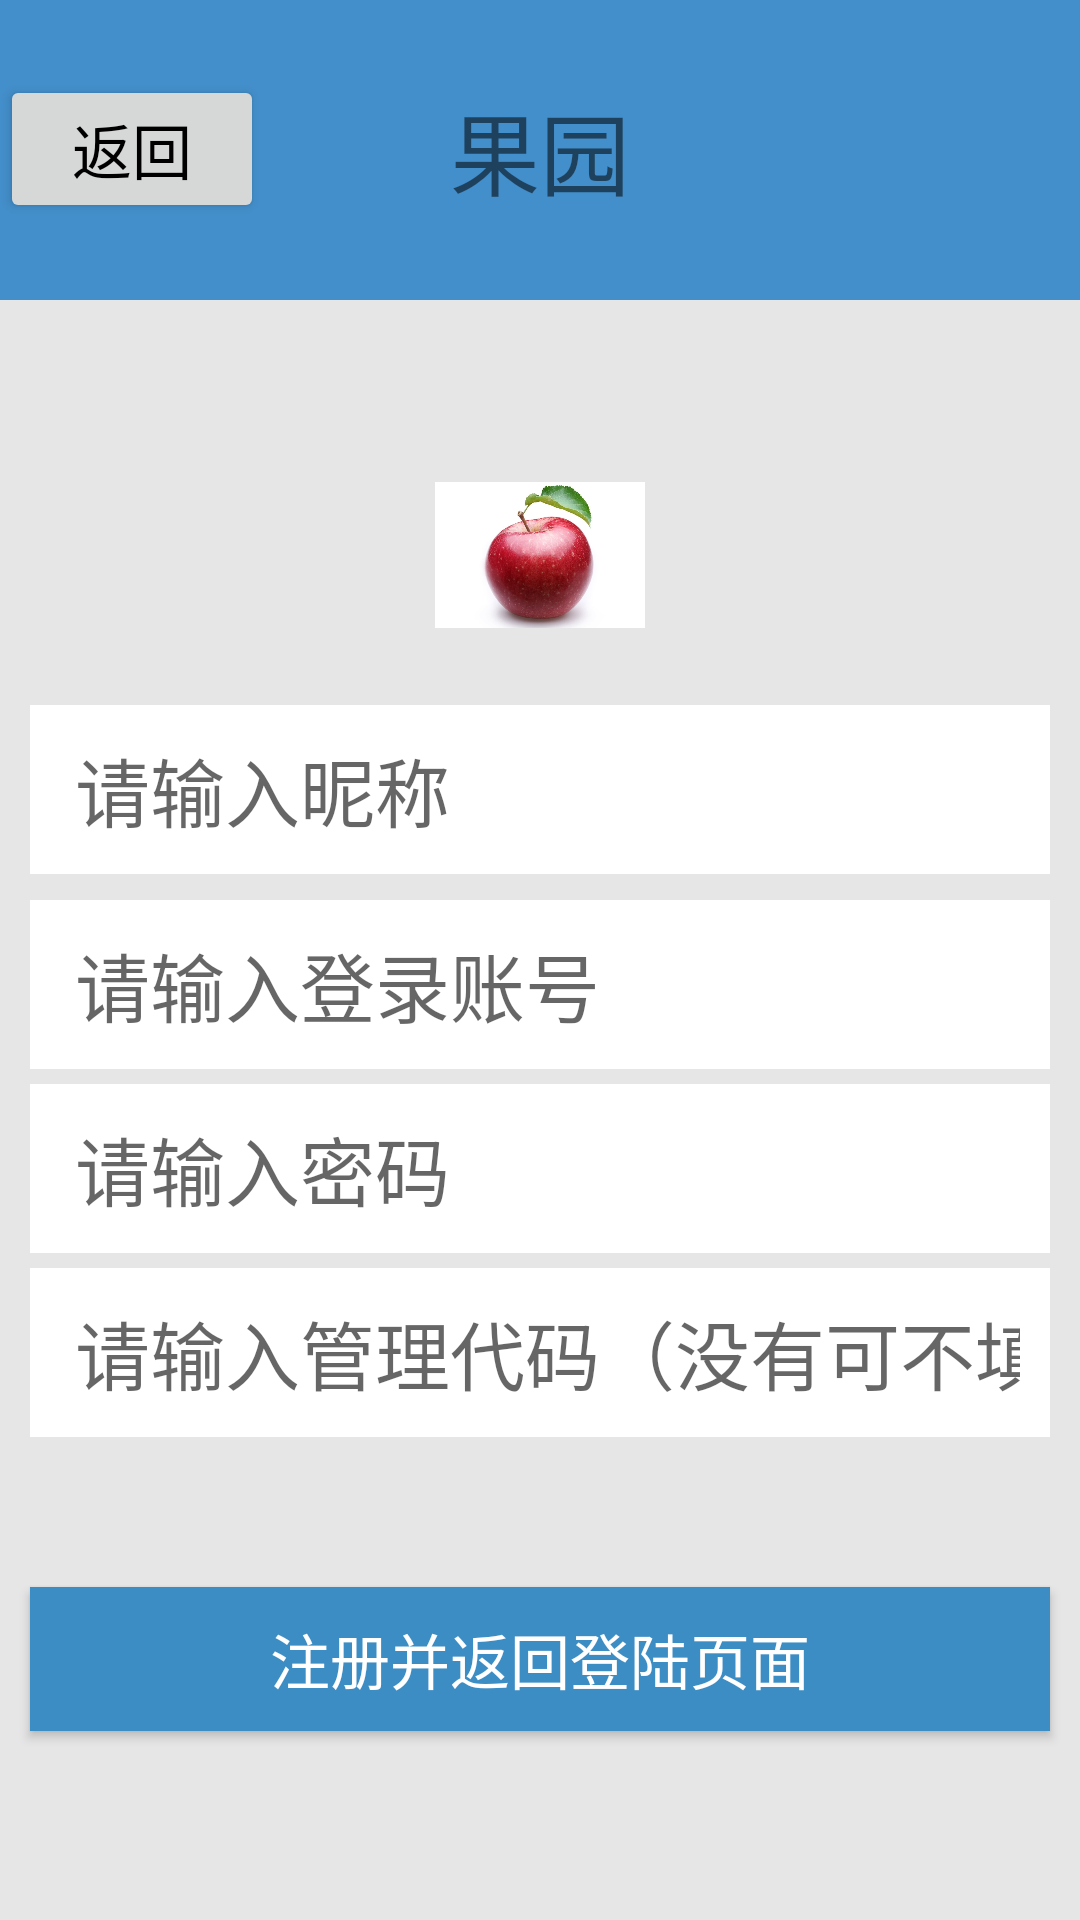

Where icons sit on this 1080*1920 app screen, as (x1, y1, x2, y2):
apple: (435, 482, 645, 628)
